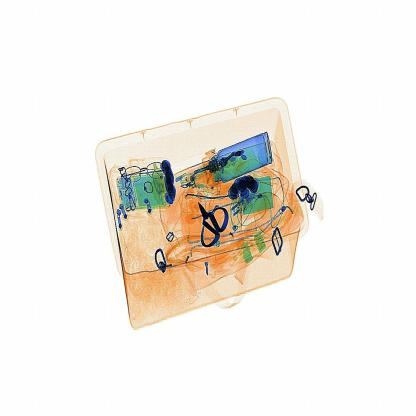gun: (187, 198, 233, 259)
